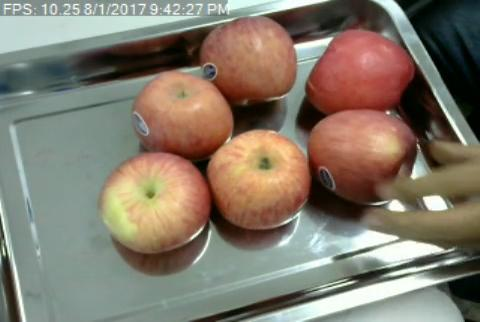apple: (98, 151, 210, 252), (207, 130, 311, 230), (310, 108, 418, 204), (305, 28, 413, 113), (201, 14, 297, 104), (131, 71, 231, 156)
